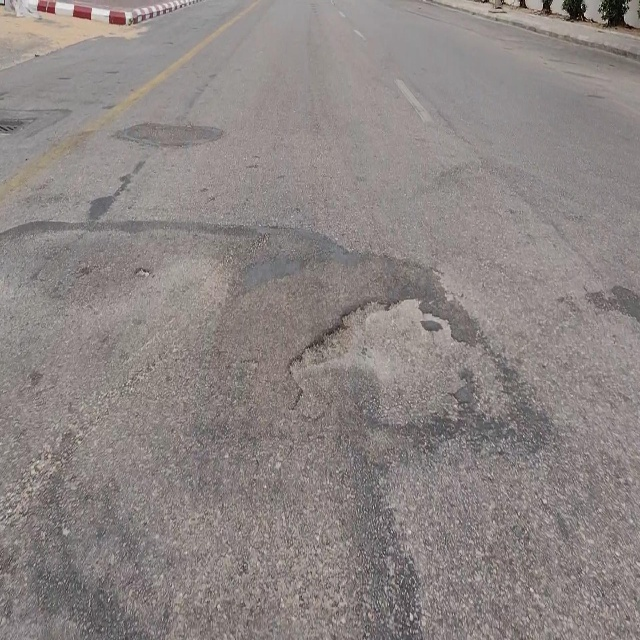pothole: (287, 294, 509, 431)
